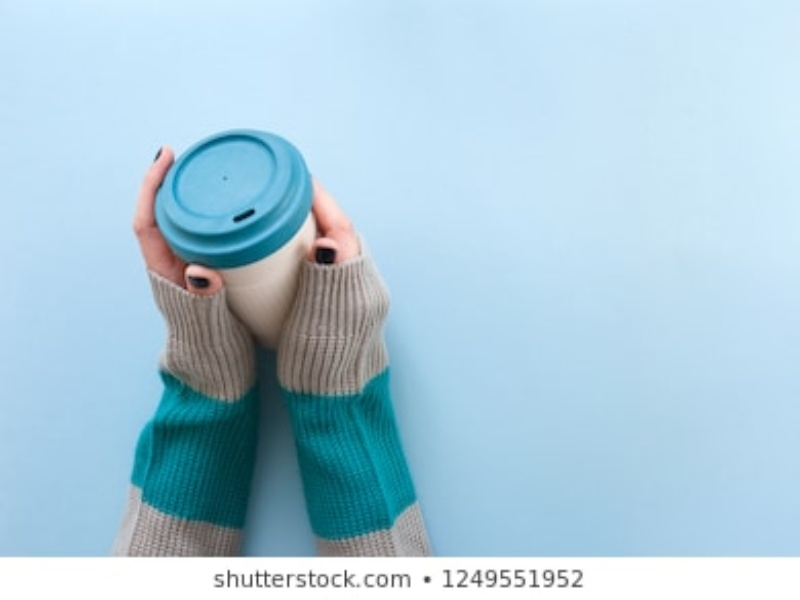coffee-lid: (140, 116, 315, 265)
